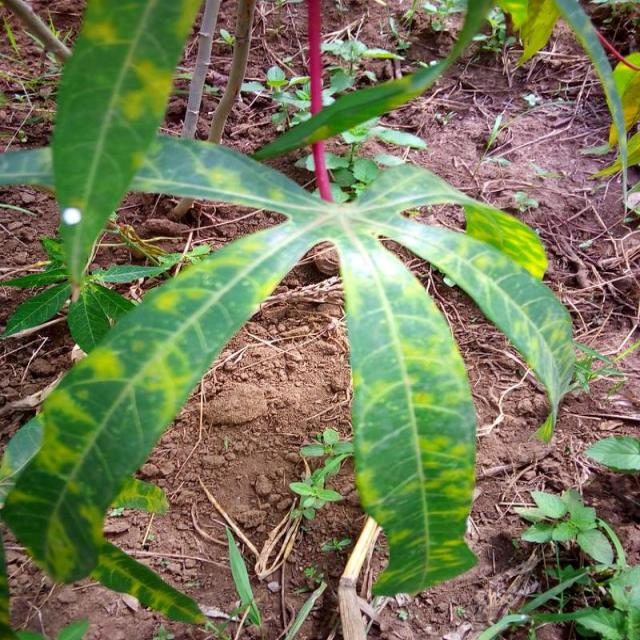cassava leaf: (337, 226, 480, 599), (51, 0, 204, 291)
